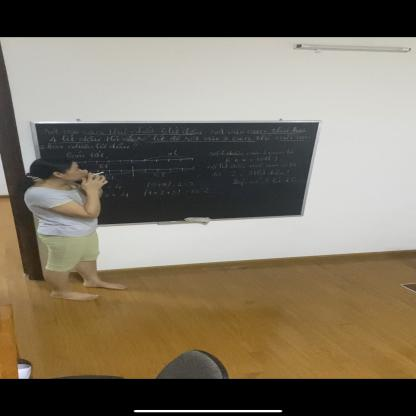cigarette: (92, 171, 106, 176)
person: (25, 156, 130, 298)
